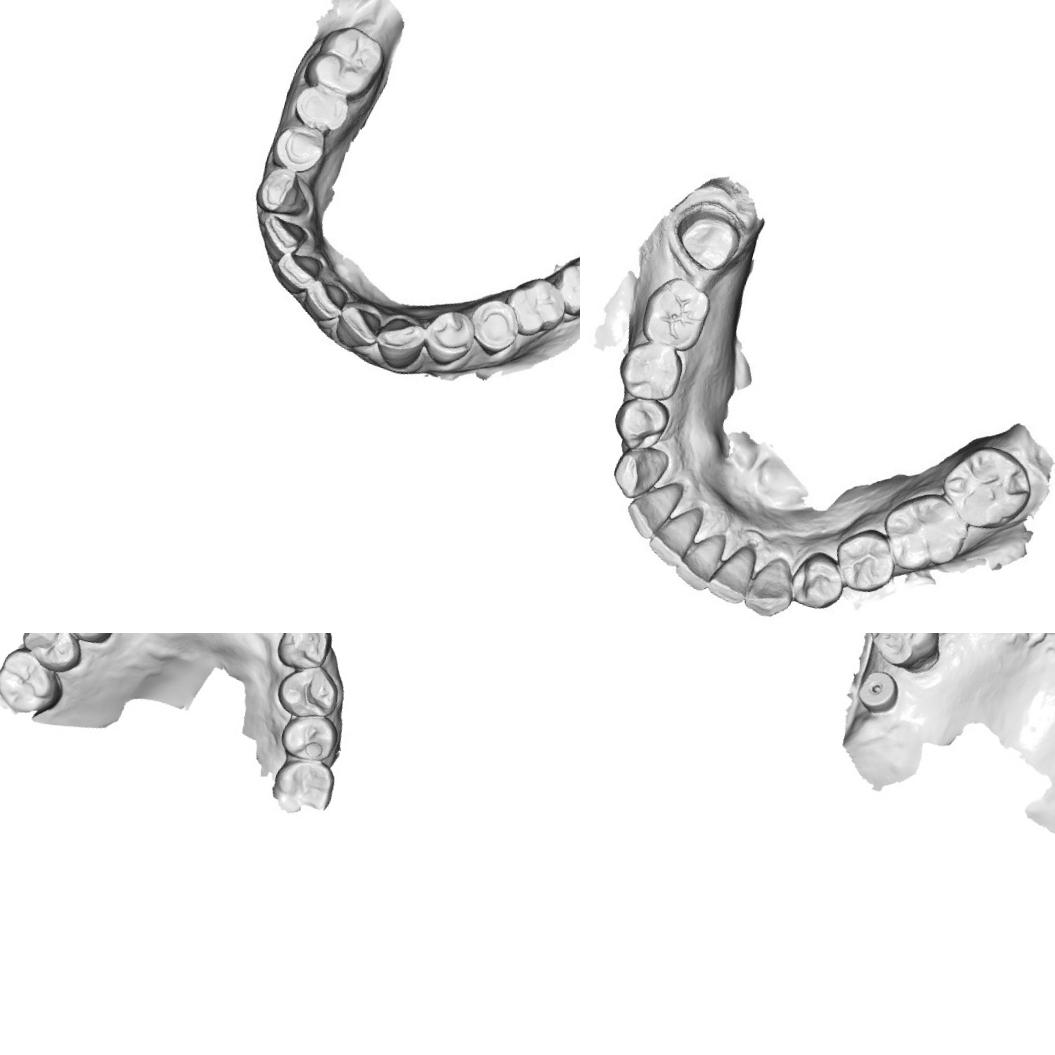canine: (602, 435, 670, 508), (366, 309, 432, 383), (742, 552, 798, 623), (250, 165, 319, 222), (271, 633, 337, 675)
crown: (668, 198, 750, 278)
implant: (853, 666, 904, 718)
incisor: (670, 529, 730, 595), (645, 507, 701, 575), (706, 536, 757, 608), (622, 479, 678, 542), (329, 299, 385, 355), (298, 278, 354, 328), (276, 247, 324, 291), (264, 214, 310, 253)
molar: (936, 435, 1044, 536), (872, 483, 972, 584), (633, 270, 716, 357), (305, 18, 388, 104), (0, 640, 71, 720), (266, 752, 339, 822), (505, 272, 572, 342), (857, 633, 955, 680), (551, 244, 580, 325)
premolar: (826, 522, 903, 602), (272, 657, 345, 725), (618, 336, 687, 402), (785, 547, 849, 616), (277, 706, 342, 766), (464, 294, 520, 361), (611, 394, 673, 453), (292, 78, 356, 134), (269, 119, 328, 178), (421, 306, 478, 367), (15, 633, 90, 677)
